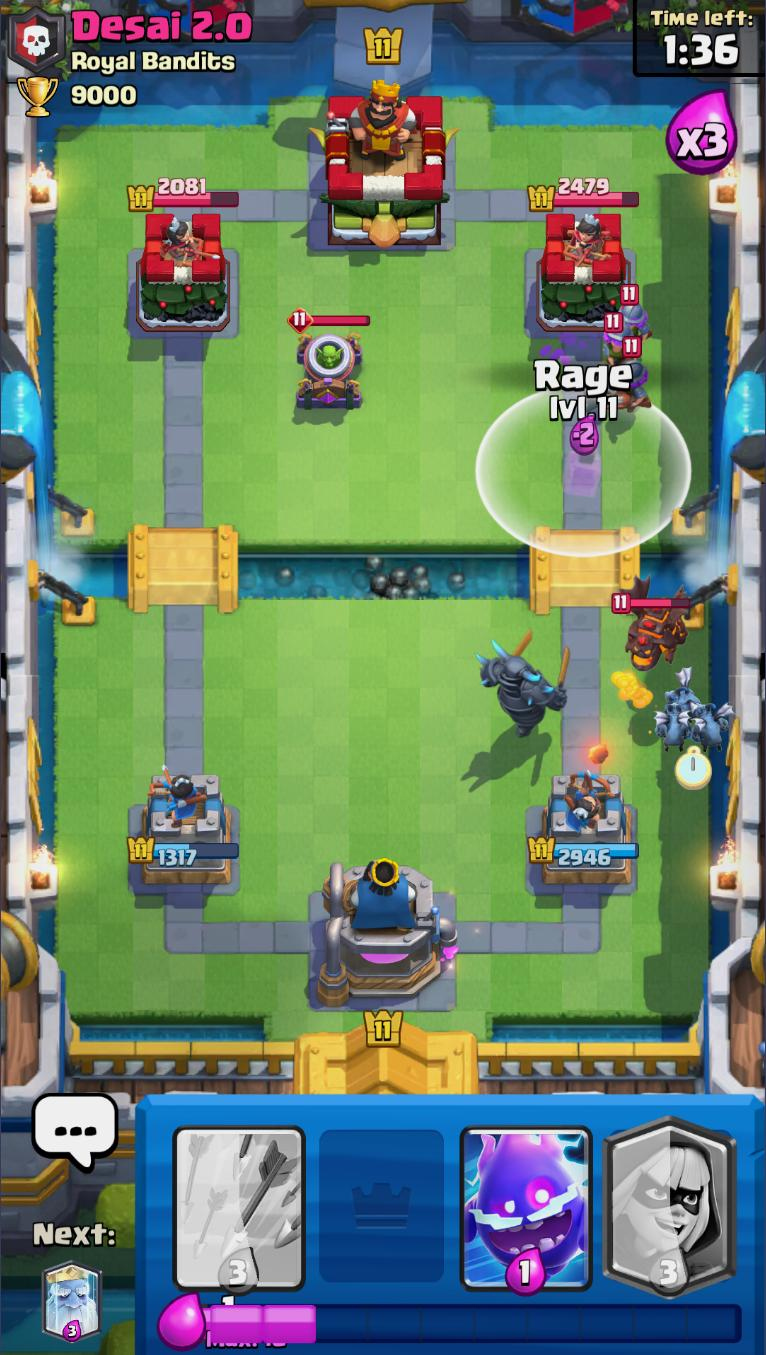ArrowDeck: (167, 1095, 310, 1296)
BanditDeck: (599, 1094, 744, 1296)
ElectroSpiritDeck: (456, 1094, 598, 1295)
Elixir: (203, 1295, 744, 1350)
Empty: (311, 1095, 455, 1296)
EnemyTower: (533, 208, 631, 331), (133, 210, 229, 335)
EvoMortar: (288, 310, 374, 416)
KingTower: (308, 82, 456, 248)
LavaHound: (613, 575, 690, 671)
Musketeer: (584, 337, 649, 417), (615, 285, 652, 347), (598, 311, 633, 370)
MyKingTower: (319, 856, 458, 1009)
MyMinion: (692, 701, 735, 753), (653, 704, 693, 753), (664, 668, 702, 712)
MyPekka: (477, 629, 570, 739)
MyPrincessTower: (524, 771, 639, 887), (125, 769, 238, 887)
MyPrincessTowerHP: (125, 836, 238, 868), (525, 835, 637, 867)
PrincessTower: (555, 213, 612, 264), (148, 214, 204, 264)
RoyaleGhostNext: (40, 1264, 105, 1344)
TowerPrincessHP: (126, 178, 239, 213), (526, 178, 639, 212)
